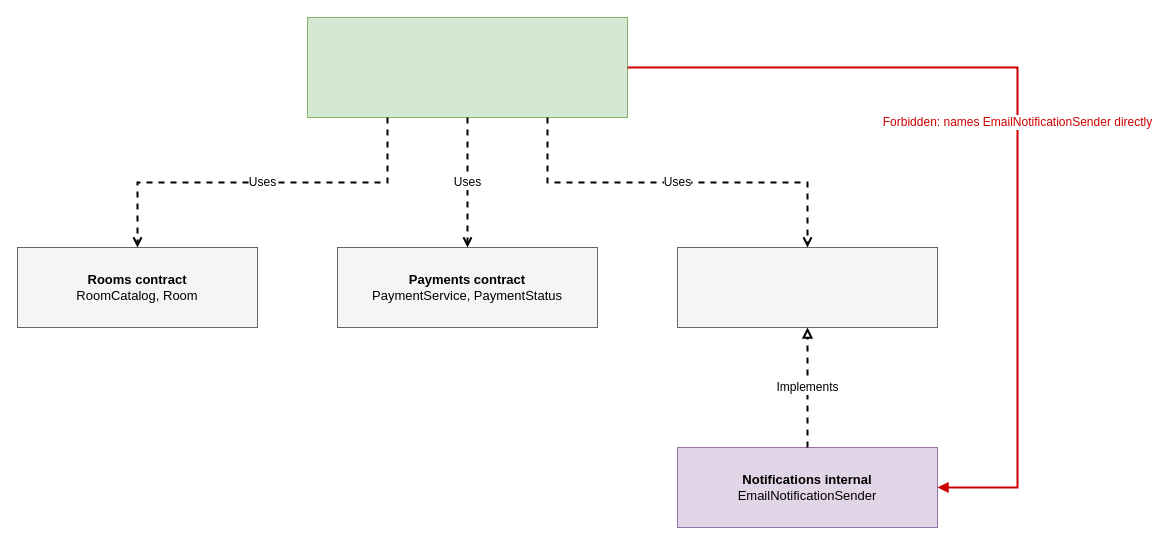
Image size: 1169x545. Some labels were removed from this diagram. Here are the shapes that lost their labels. From the top down, the box of each, then its label:
(306, 16, 628, 118): Reservations BookingService and the booking rule. Uses only public contracts.
(676, 246, 938, 328): Notifications contract NotificationSender, Confirmation
